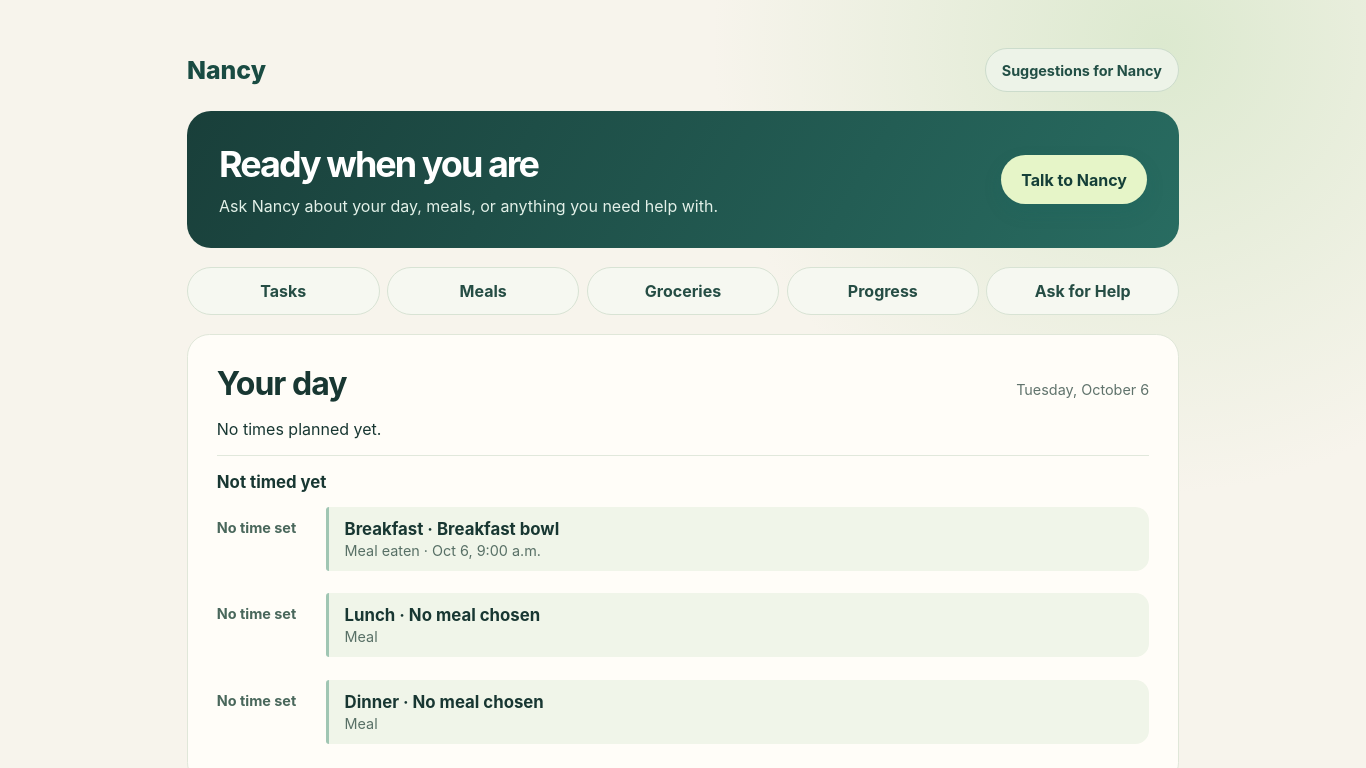
client save and activity recovery › shows every reported meal once, including repeated slots (has plan: false)
Click the button "Meals".
click(483, 291)  # box [387,267,580,315]
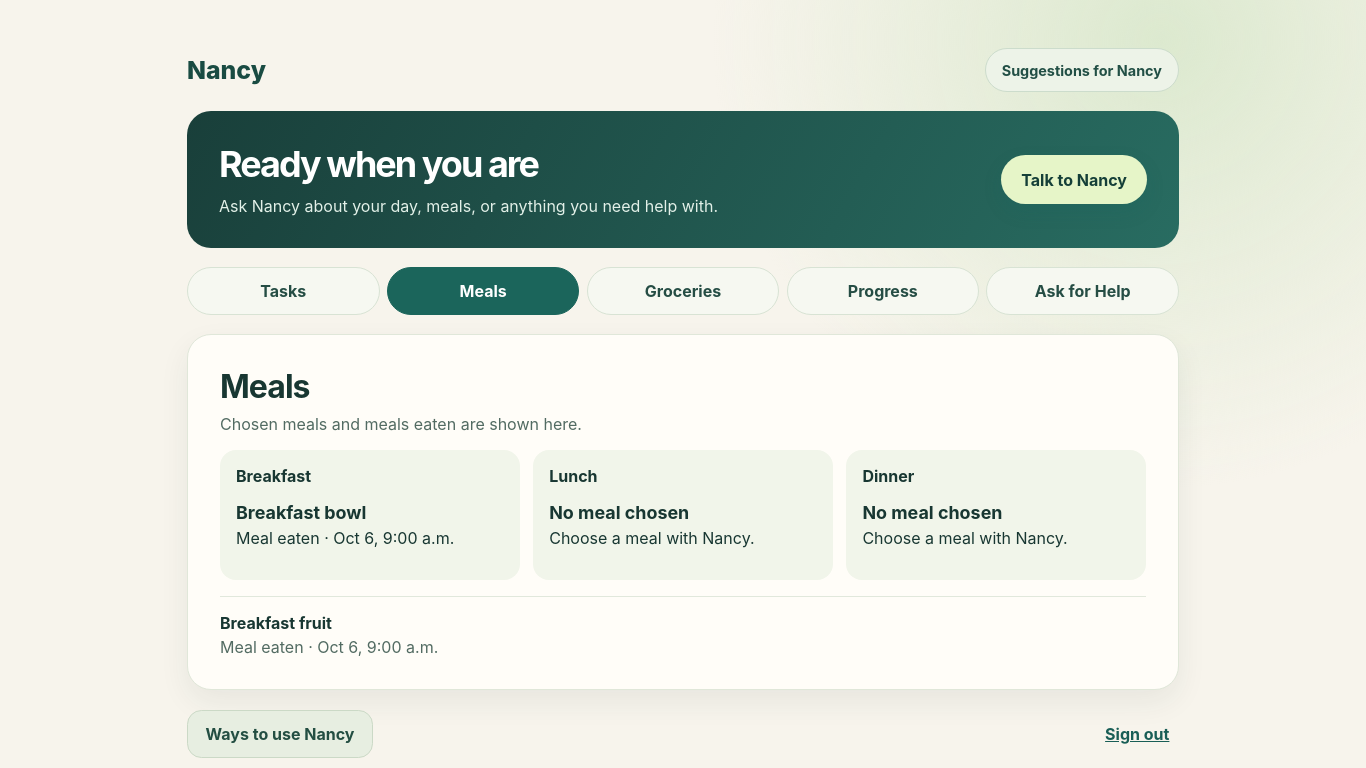
Expected: the number of headings "Breakfast fruit" is 1, [220,613,332,633]
Expected: the text "Breakfast bowl" is shown once, [236,502,366,523]
